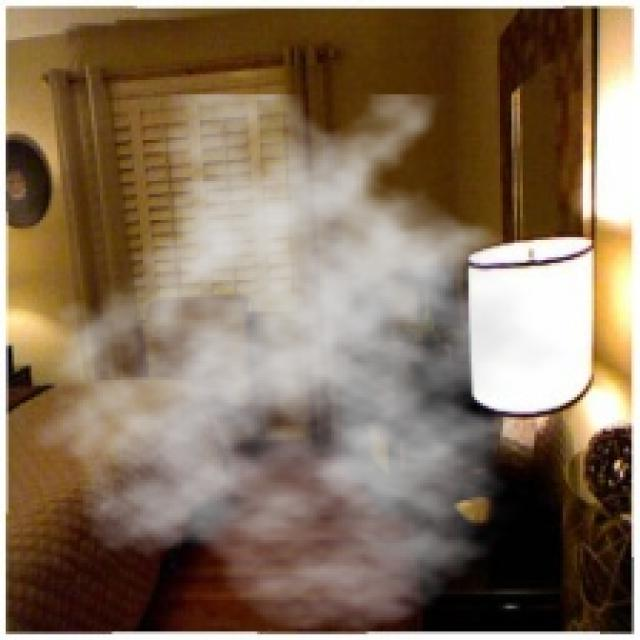smoke: (29, 95, 588, 634)
